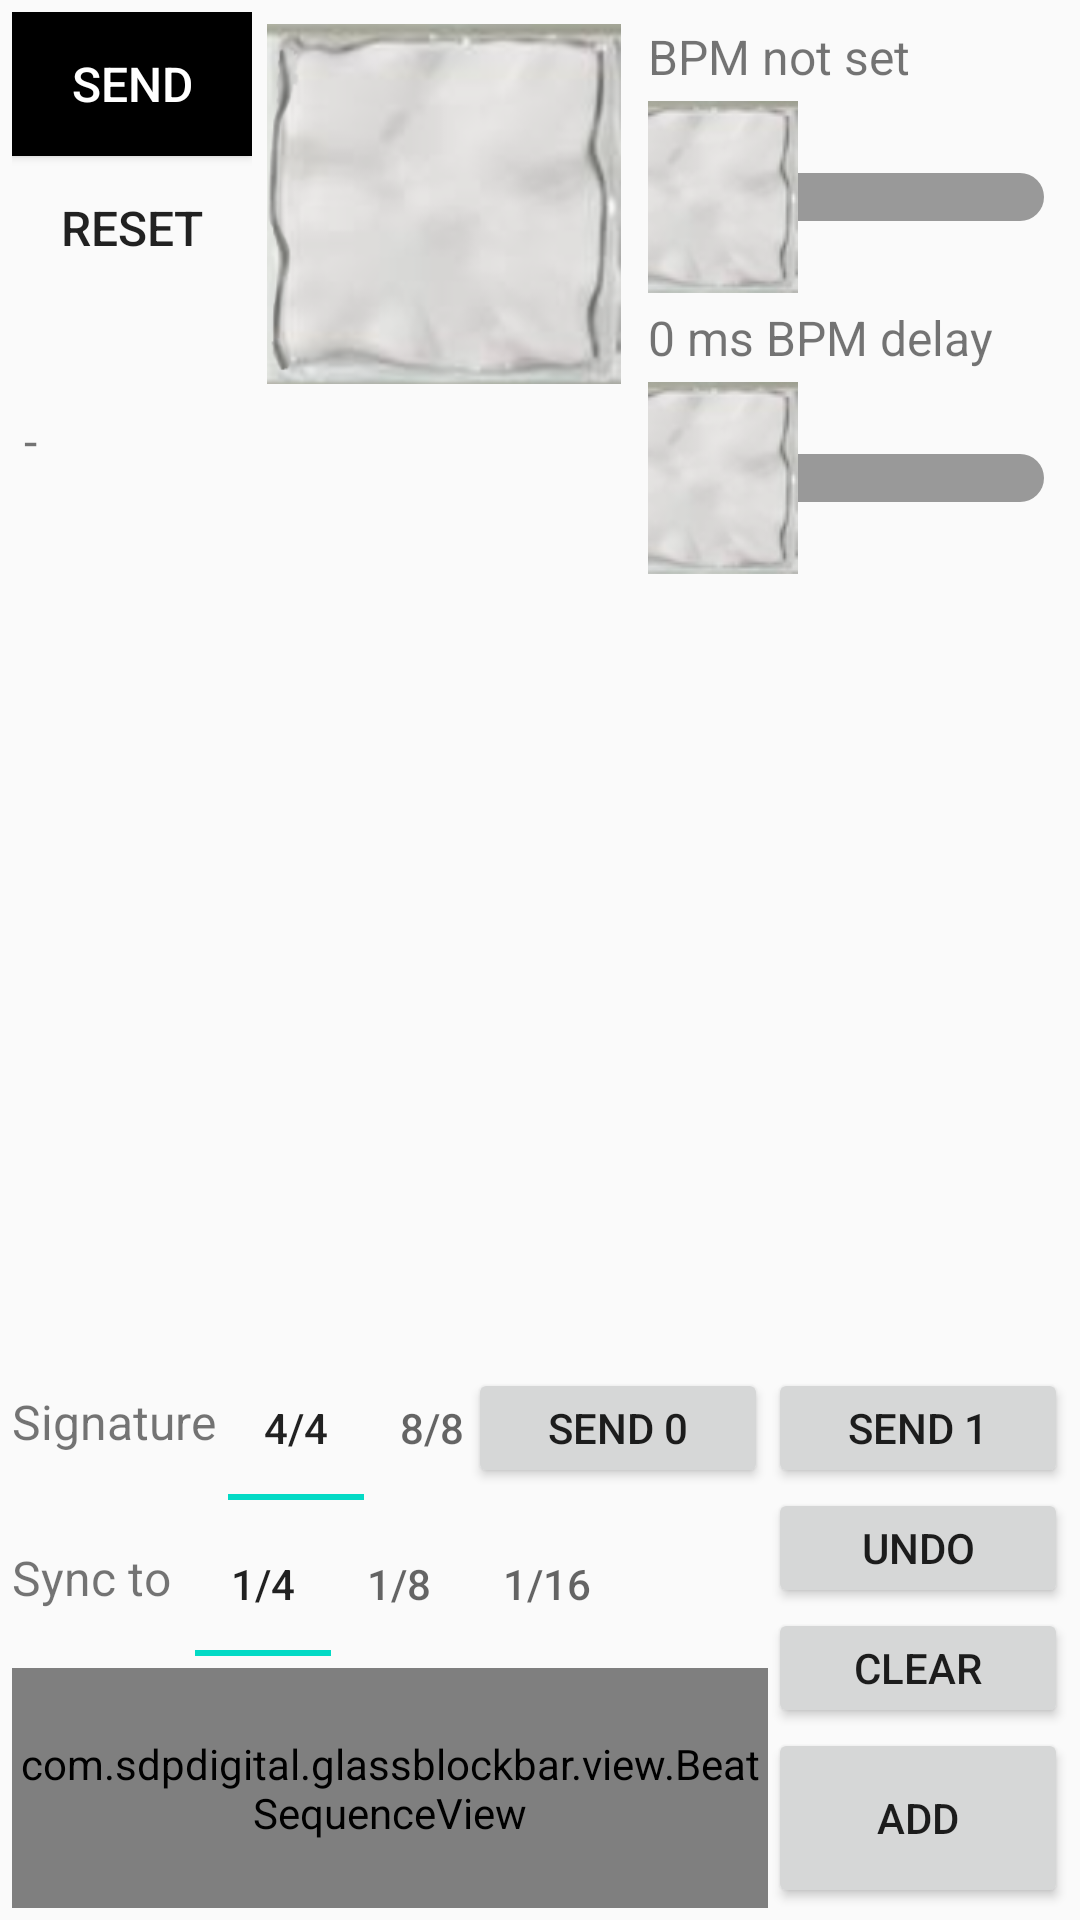

Icons on this 1080w x 1920h Android screen, each with its box as (x1, y1, x2, y2):
glass block: (267, 24, 621, 384)
